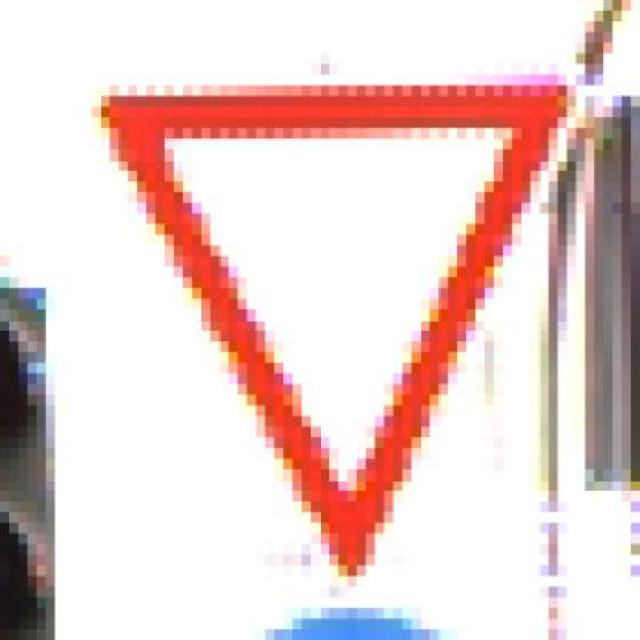Give Way: (63, 64, 594, 608)
